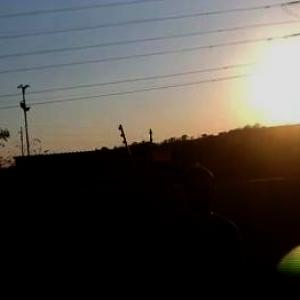follow: (157, 159, 255, 299)
